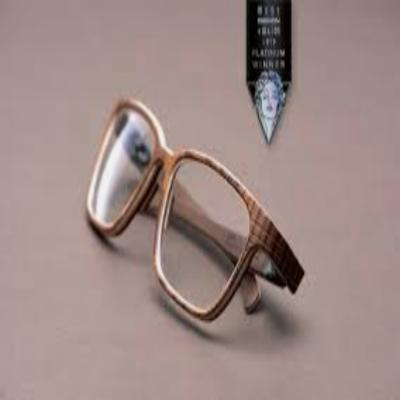glasses: (83, 92, 305, 335)
